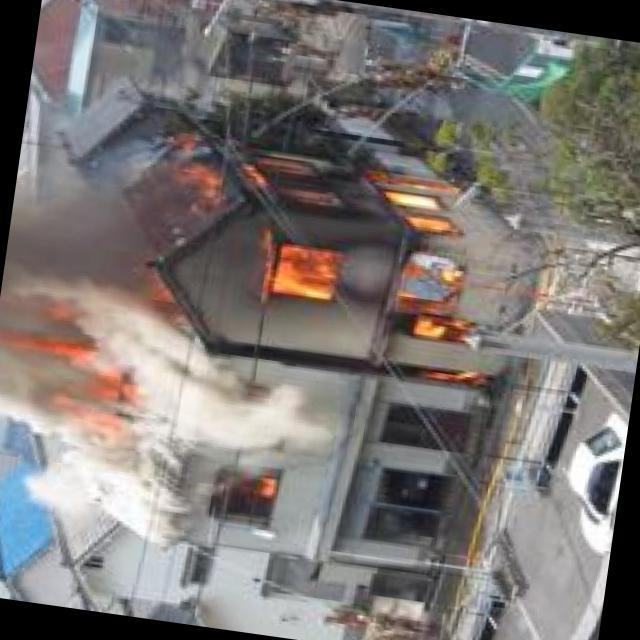Fire: (123, 152, 477, 347), (13, 324, 145, 445), (251, 475, 284, 504)
